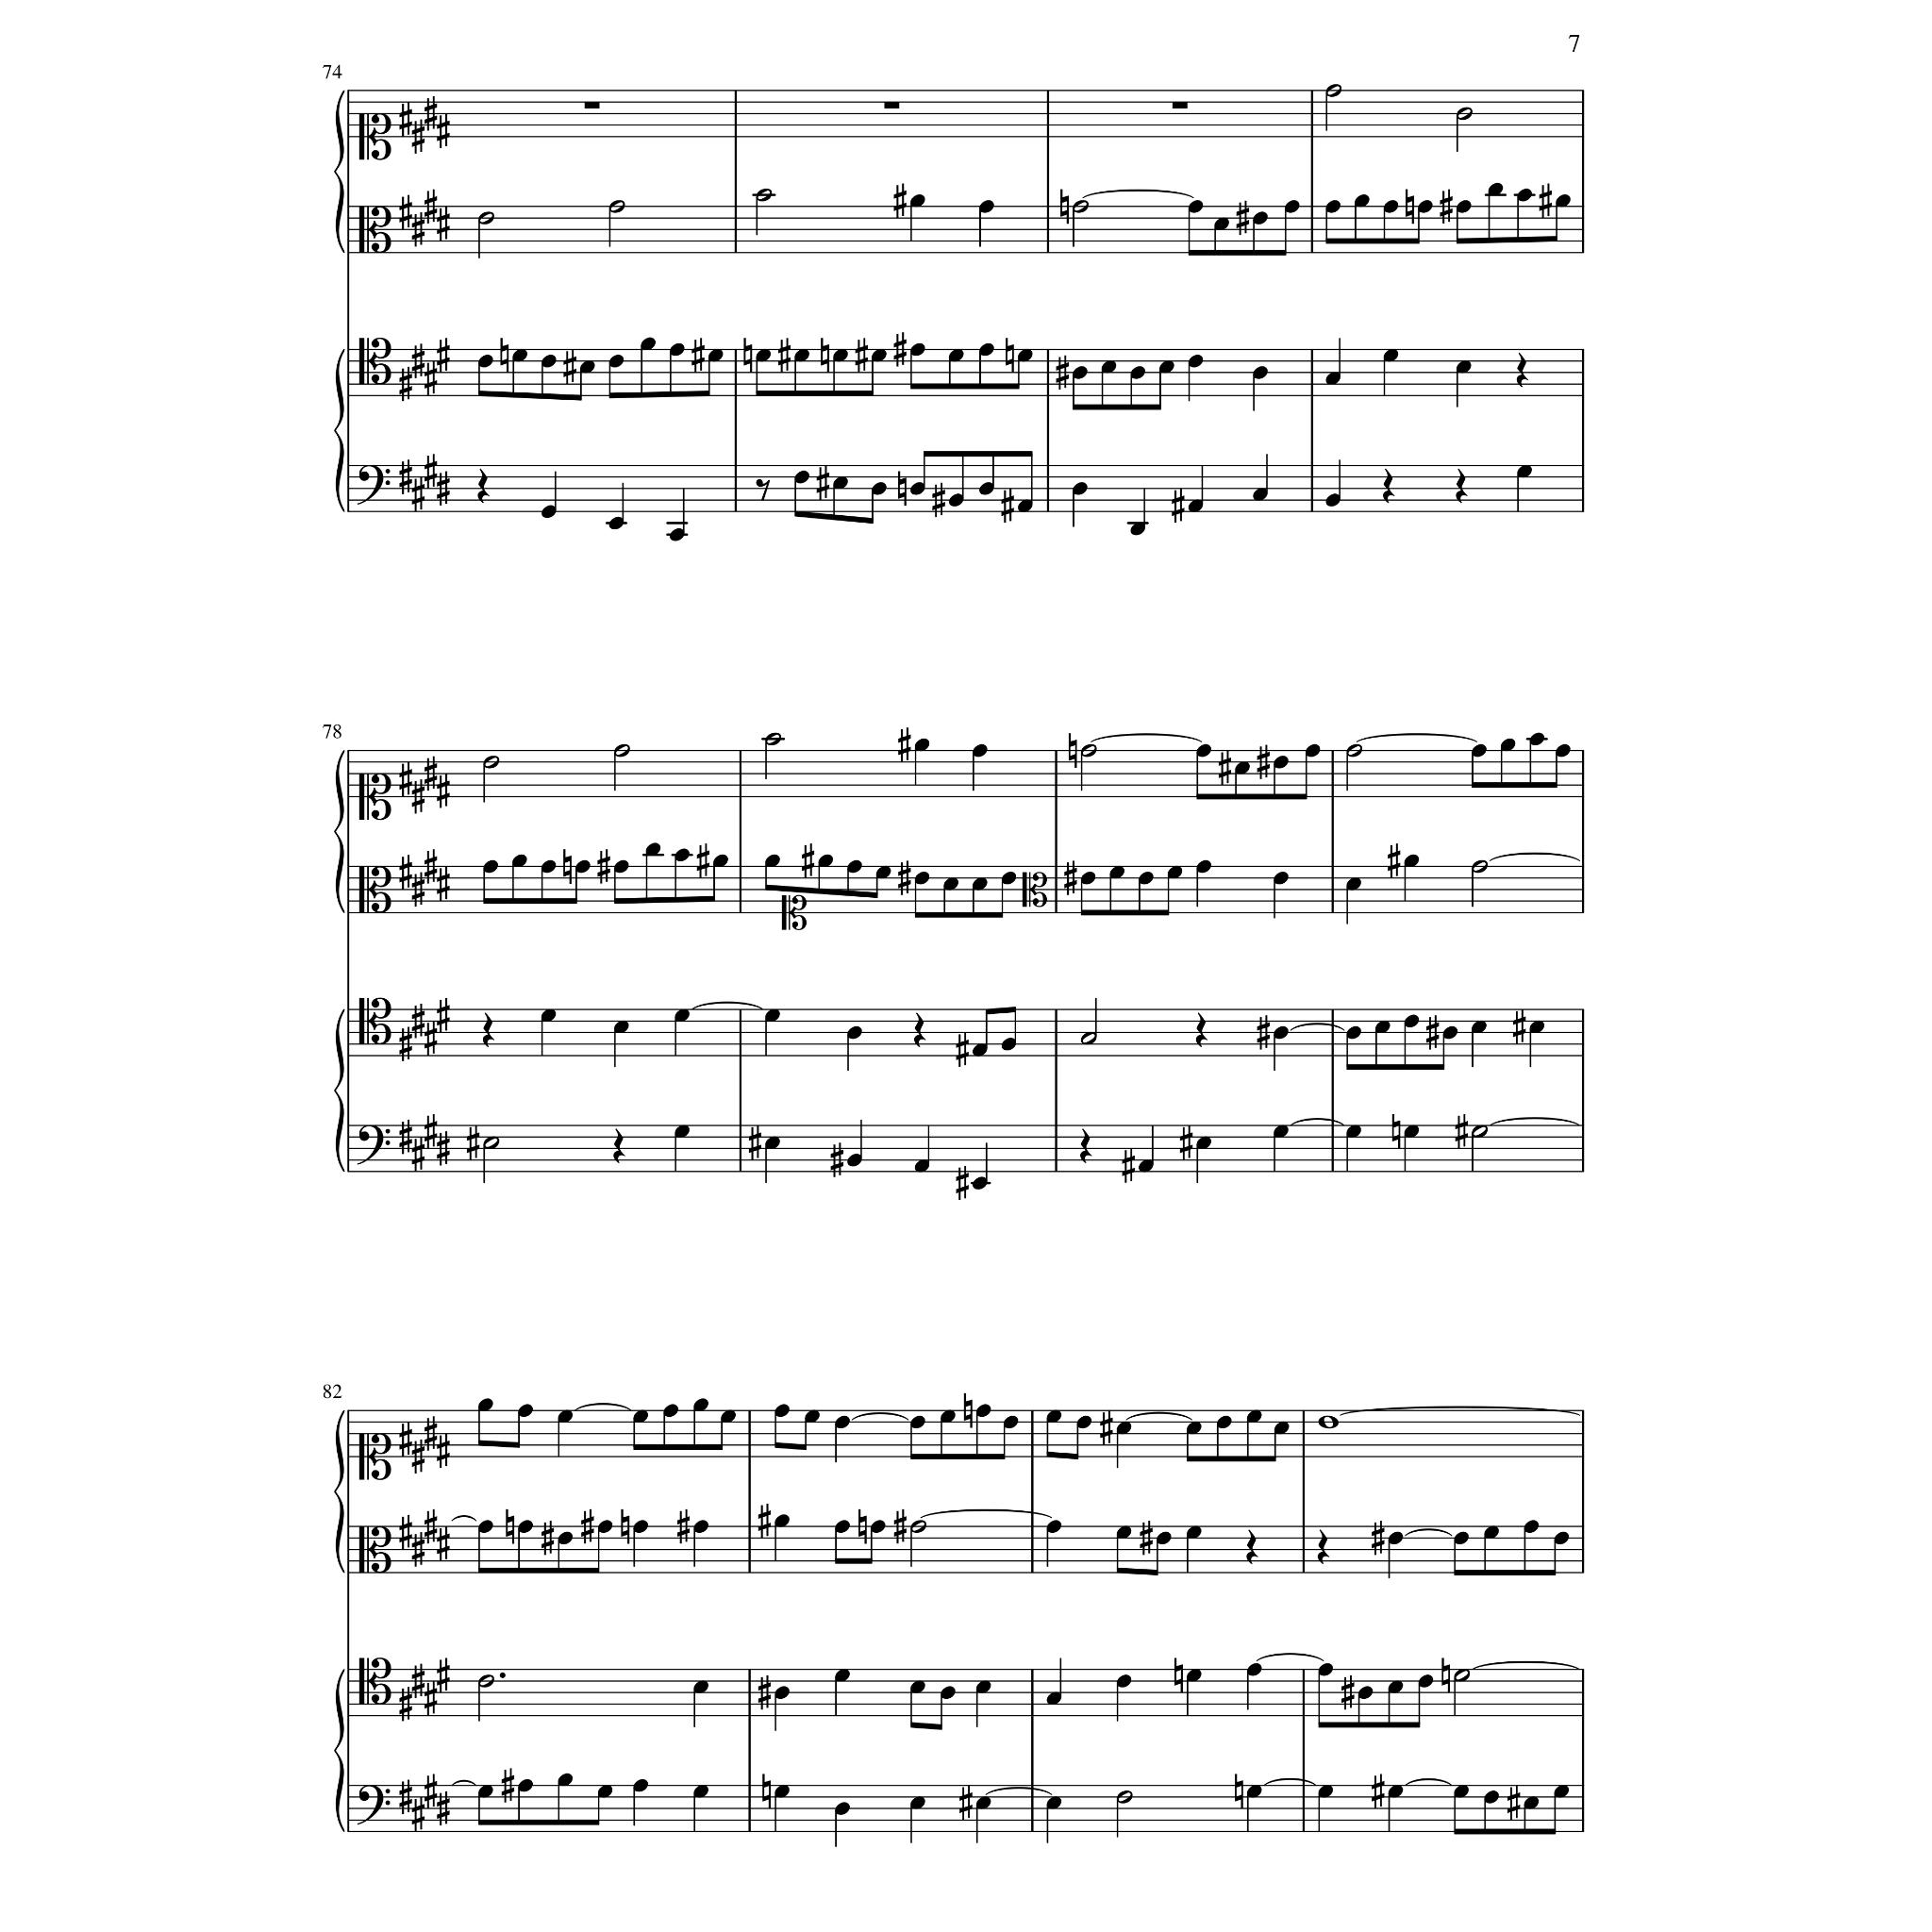brace: (333, 349, 345, 513), (333, 750, 345, 915), (333, 1008, 345, 1173), (333, 90, 345, 253), (333, 1410, 345, 1573), (333, 1670, 345, 1833)
fClef: (357, 465, 391, 506), (357, 1125, 391, 1166), (357, 1785, 391, 1824)
noteheadBlack: (1070, 481, 1088, 495), (1454, 200, 1472, 214), (1454, 359, 1472, 373), (644, 842, 662, 856), (573, 860, 591, 874), (1483, 1525, 1500, 1539), (517, 1403, 534, 1417), (773, 1403, 791, 1417), (1214, 218, 1230, 232), (1187, 354, 1203, 368), (1325, 200, 1341, 214), (1325, 494, 1341, 508), (1325, 372, 1341, 386), (1284, 200, 1300, 214), (1131, 522, 1146, 536), (1159, 359, 1175, 373), (1187, 200, 1203, 214), (1100, 359, 1116, 373), (1516, 465, 1532, 479), (1488, 182, 1504, 196), (1555, 195, 1571, 209), (1353, 195, 1369, 209), (1417, 200, 1433, 214), (669, 343, 685, 357), (579, 359, 594, 373), (609, 354, 625, 368), (609, 517, 625, 531), (708, 349, 724, 363), (755, 349, 771, 363), (511, 349, 527, 363), (541, 354, 557, 368), (478, 354, 494, 368), (948, 349, 964, 363), (948, 494, 964, 508), (909, 343, 925, 357), (909, 481, 925, 495), (1017, 349, 1033, 363), (978, 481, 994, 495), (978, 200, 994, 214), (978, 343, 994, 357), (909, 195, 925, 209), (833, 476, 849, 490), (833, 349, 849, 363), (794, 349, 810, 363), (794, 471, 810, 485), (870, 481, 886, 495), (870, 349, 886, 363), (1274, 755, 1290, 770), (1274, 1026, 1290, 1040), (1274, 1125, 1290, 1139), (1235, 761, 1251, 775), (1346, 1026, 1362, 1040), (1346, 1125, 1362, 1139), (1166, 865, 1182, 879), (1196, 860, 1212, 874), (1138, 1159, 1154, 1173), (1109, 865, 1125, 879), (1529, 732, 1545, 747), (1442, 1026, 1458, 1040), (1403, 855, 1419, 869), (1403, 1014, 1419, 1028), (1403, 1125, 1419, 1139), (614, 860, 630, 874), (764, 855, 780, 869), (711, 855, 727, 869), (674, 849, 690, 863), (674, 1125, 690, 1139), (511, 855, 527, 869), (540, 860, 556, 874), (483, 860, 499, 874), (913, 738, 929, 752), (913, 1159, 929, 1173), (876, 865, 892, 879), (971, 1177, 987, 1191), (847, 1026, 863, 1040), (847, 860, 863, 874), (847, 1154, 863, 1168), (817, 855, 833, 869), (1246, 1410, 1261, 1424), (1246, 1663, 1261, 1677), (1185, 1668, 1201, 1683), (1185, 1525, 1201, 1539), (1215, 1415, 1231, 1430), (1318, 1663, 1334, 1677), (1046, 1410, 1062, 1424), (1046, 1796, 1062, 1810), (1076, 1415, 1092, 1430), (1116, 1525, 1132, 1539), (1116, 1674, 1132, 1688), (1523, 1796, 1539, 1810), (1417, 1674, 1433, 1688), (633, 1410, 649, 1424), (557, 1410, 573, 1424), (694, 1398, 709, 1412), (663, 1403, 679, 1417), (478, 1398, 494, 1412), (909, 1415, 925, 1430), (909, 1796, 925, 1810), (975, 1796, 991, 1810), (1003, 1415, 1019, 1430), (939, 1410, 955, 1424), (975, 1403, 991, 1417), (835, 1801, 851, 1815), (720, 1410, 736, 1424), (805, 1410, 821, 1424), (835, 1415, 851, 1430), (835, 1668, 851, 1683), (1070, 366, 1088, 379), (1553, 745, 1571, 757), (1000, 1039, 1017, 1051), (1000, 872, 1017, 885), (1483, 1790, 1500, 1803), (517, 1520, 534, 1532), (517, 1780, 534, 1792), (773, 1514, 791, 1527), (773, 1686, 791, 1698), (773, 1785, 791, 1798), (1384, 200, 1398, 214), (1384, 349, 1398, 363), (1500, 738, 1514, 752), (1253, 488, 1269, 501), (1253, 212, 1269, 225), (1253, 366, 1269, 379), (1187, 501, 1203, 513), (1131, 366, 1146, 379), (1516, 189, 1532, 202), (640, 338, 656, 350), (669, 529, 685, 541), (541, 506, 557, 518), (1017, 501, 1033, 513), (1274, 872, 1290, 885), (1079, 872, 1095, 885), (1346, 878, 1362, 890), (1306, 745, 1322, 757), (1196, 745, 1212, 757), (1196, 1138, 1212, 1150), (1138, 872, 1154, 885), (1529, 1021, 1545, 1033), (1375, 1021, 1391, 1033), (1472, 745, 1488, 757), (1472, 1021, 1488, 1033), (614, 1021, 630, 1033), (764, 1138, 780, 1150), (674, 1008, 690, 1021), (540, 1008, 556, 1021), (764, 1008, 780, 1021), (913, 872, 929, 885), (943, 878, 959, 890), (971, 745, 987, 757), (971, 878, 987, 890), (971, 1044, 987, 1056), (1246, 1785, 1261, 1798), (1185, 1422, 1201, 1435), (1318, 1785, 1334, 1798), (1274, 1422, 1290, 1435), (1046, 1520, 1062, 1532), (1046, 1691, 1062, 1704), (1155, 1532, 1171, 1545), (1116, 1422, 1132, 1435), (1553, 1785, 1569, 1798), (1553, 1532, 1569, 1545), (1523, 1520, 1539, 1532), (1357, 1686, 1373, 1698), (1387, 1532, 1403, 1545), (1387, 1681, 1403, 1693), (1387, 1785, 1403, 1798), (1453, 1532, 1468, 1545), (1453, 1785, 1468, 1798), (596, 1520, 612, 1532), (596, 1785, 612, 1798), (557, 1773, 573, 1785), (557, 1532, 573, 1545), (633, 1520, 649, 1532), (694, 1520, 709, 1532), (694, 1681, 709, 1693), (694, 1785, 709, 1798), (633, 1780, 649, 1792), (478, 1520, 494, 1532), (478, 1785, 494, 1798), (909, 1681, 925, 1693), (869, 1520, 885, 1532), (975, 1681, 991, 1693), (939, 1686, 955, 1698), (835, 1520, 851, 1532)
noteheadHalf: (609, 200, 626, 214), (1470, 860, 1488, 874), (1470, 1125, 1488, 1139), (483, 755, 501, 770), (1453, 1668, 1470, 1683), (1325, 83, 1341, 97), (1072, 200, 1088, 214), (1081, 1031, 1097, 1046), (764, 732, 780, 747), (478, 1674, 494, 1688), (1345, 745, 1362, 757), (483, 1138, 501, 1150), (909, 1520, 927, 1532), (1456, 108, 1472, 120), (755, 189, 771, 202), (478, 212, 494, 225), (1081, 745, 1097, 757), (614, 745, 630, 757), (1116, 1790, 1132, 1803)
noteheadWhole: (1318, 1415, 1339, 1430)
rest8th: (755, 479, 771, 502)
restQuarter: (476, 467, 490, 504), (612, 1129, 626, 1164), (481, 1012, 495, 1047), (1454, 467, 1467, 504), (1382, 467, 1394, 504), (1246, 1529, 1258, 1566), (1318, 1529, 1330, 1566), (1516, 352, 1529, 387), (1079, 1129, 1092, 1164), (1196, 1012, 1208, 1047), (913, 1012, 925, 1047)
restWhole: (883, 103, 899, 110), (1173, 103, 1189, 110), (584, 103, 600, 110)
